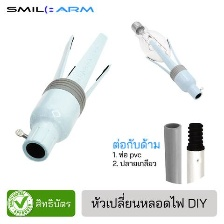light_bulb: (123, 16, 174, 65)
